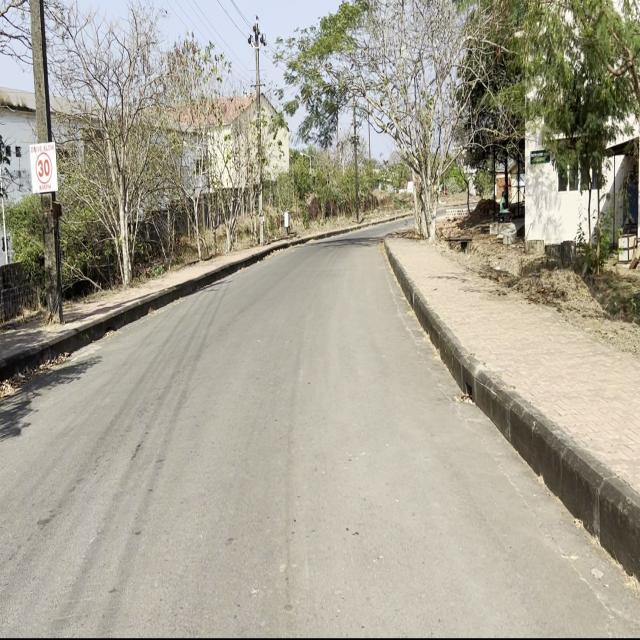Road: (3, 238, 636, 633)
